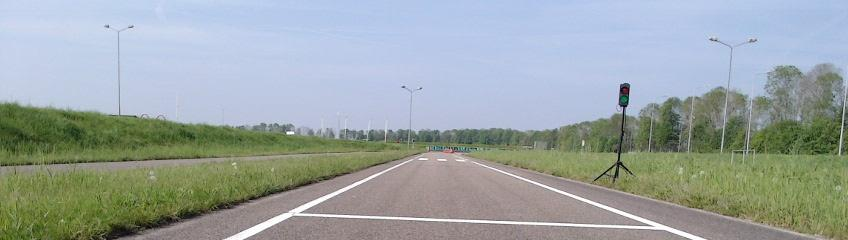TrafficLight-green: (619, 84, 630, 106)
